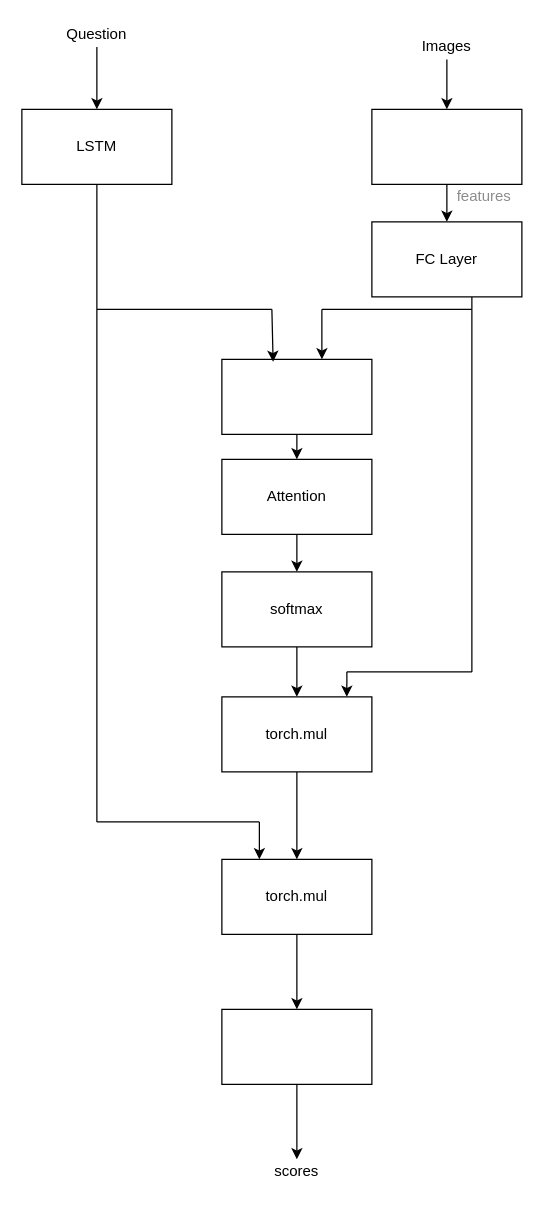
Some shapes in this 544 by 1205 pixel diagram are drawn without their labels. Here are the shapes that lost their labels. From the top down, the centre of each, then its label:
At (446,146): "CNN".
At (296,396): "torch.cat".
At (296,1046): "MLP".
